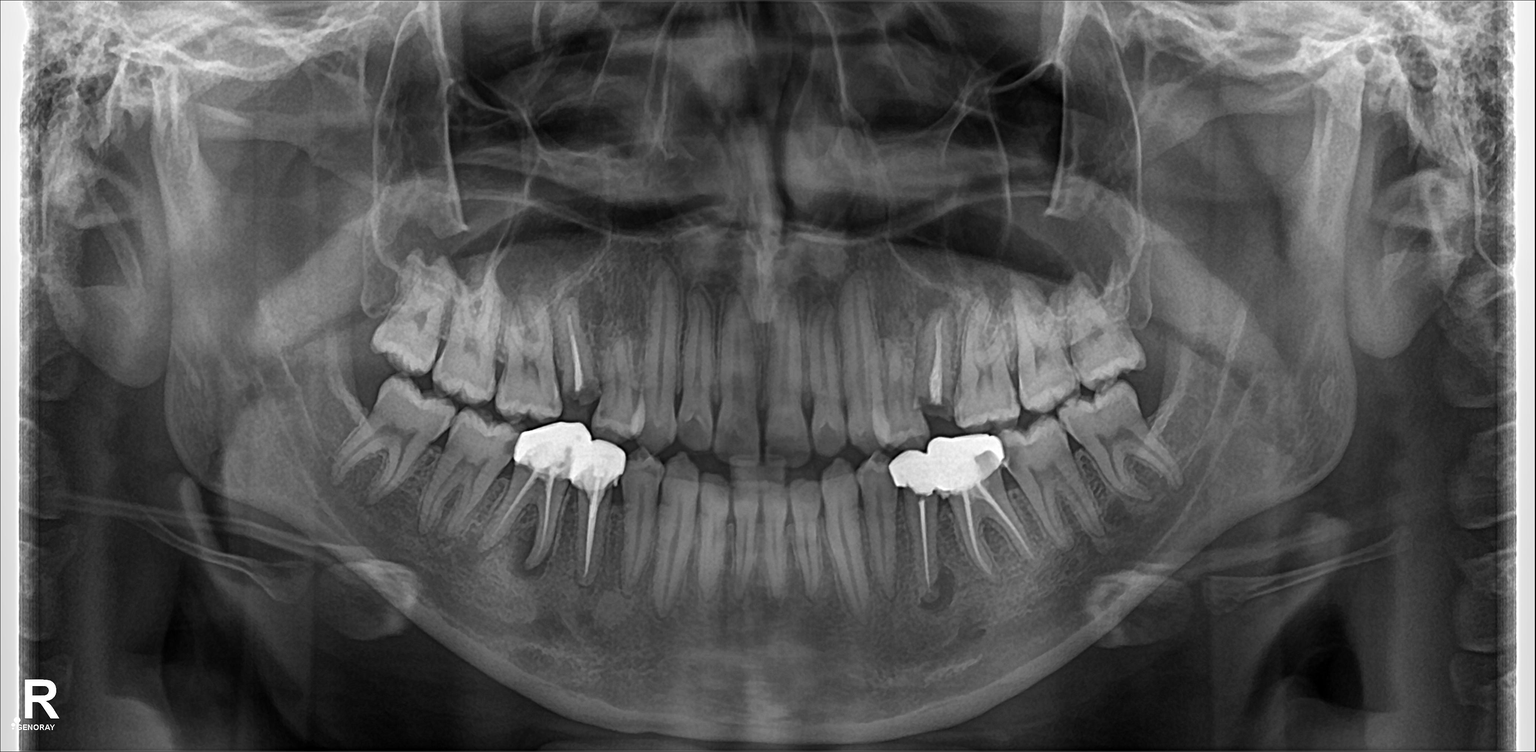Endodontically Treated Tooth: (931, 441, 1022, 587), (570, 439, 624, 585), (894, 456, 952, 590), (512, 436, 572, 562)
